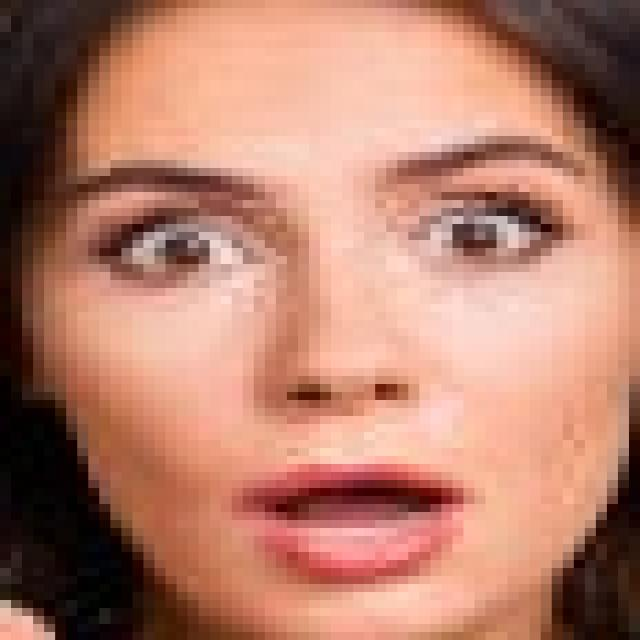Anxiety: (27, 0, 629, 632)
